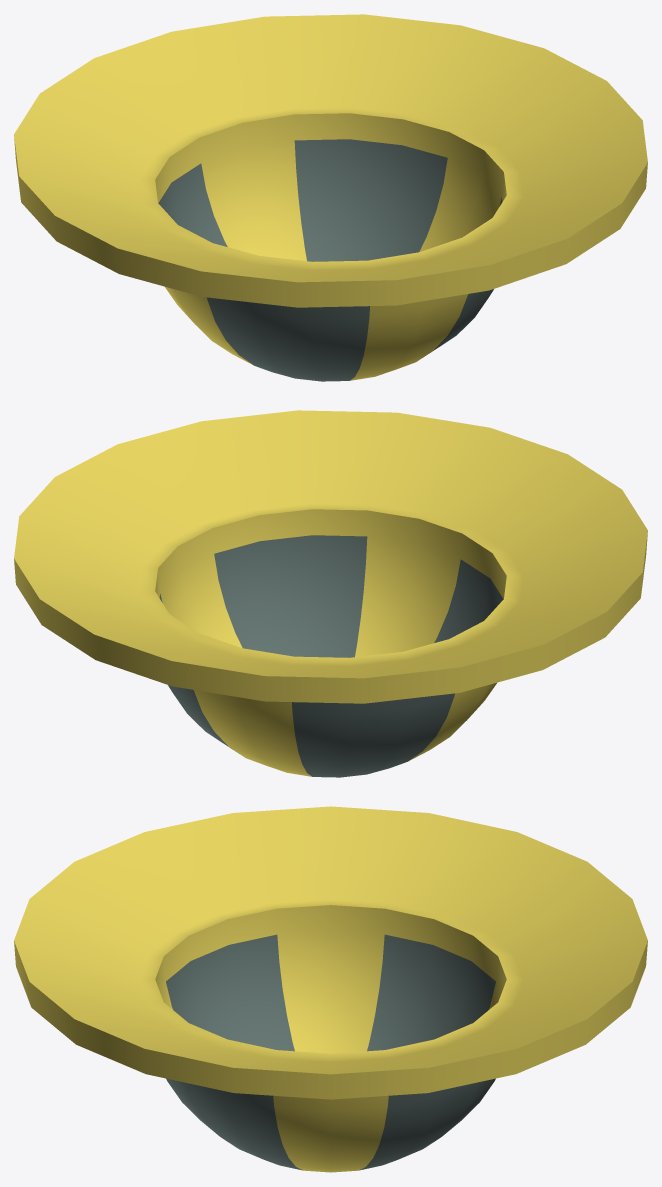
Rendered from WinZoneMesh.fbx.
3 views of the same model, one above another, from view 1: azimuth 30°, elevation 25°; view 2: azimuth 150°, elevation 25°; view 3: azimuth 270°, elevation 25° (orthographic).
Visible parts, largest first — view 1: WinZone; view 2: WinZone; view 3: WinZone.
Boxes of the visible parts, box(x1,y1,x2,y2) form: WinZone: box(14, 14, 647, 381); WinZone: box(14, 410, 647, 777); WinZone: box(14, 806, 647, 1172).
Size of the model in its own units: 3.61 by 1.34 by 3.61.
